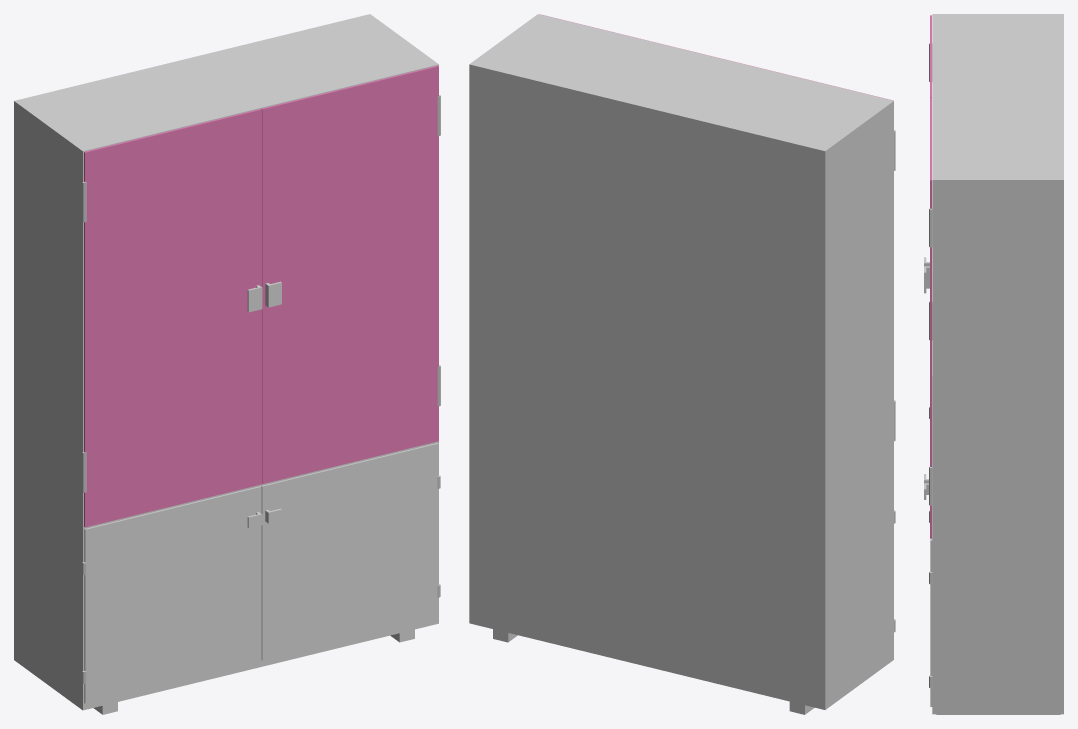
The model's file is Pharmaceutic_Box.fbx.
3 renders of one model, left to right at view 1: azimuth 30°, elevation 25°; view 2: azimuth 150°, elevation 25°; view 3: azimuth 270°, elevation 25°, orthographic. The views are drawn at different scales.
Parts seen in each view (by area): view 1: Pharmaceutic_Box, UpperDoor_L, UpperDoor_R, LowerDoor_L, LowerDoor_R; view 2: Pharmaceutic_Box; view 3: Pharmaceutic_Box, UpperDoor_R, LowerDoor_R, UpperDoor_L.
Part boxes in pixels (x1,y1,x2,y2): Pharmaceutic_Box: (14,14,438,714); UpperDoor_L: (82,109,262,527); UpperDoor_R: (261,65,440,484); LowerDoor_L: (82,486,262,703); LowerDoor_R: (261,443,440,660); Pharmaceutic_Box: (469,14,893,714); Pharmaceutic_Box: (932,14,1063,714); UpperDoor_R: (924,98,932,538); LowerDoor_R: (924,458,932,706); UpperDoor_L: (924,15,932,340).
Size of the model in its own units: 120 by 184 by 42.67.
